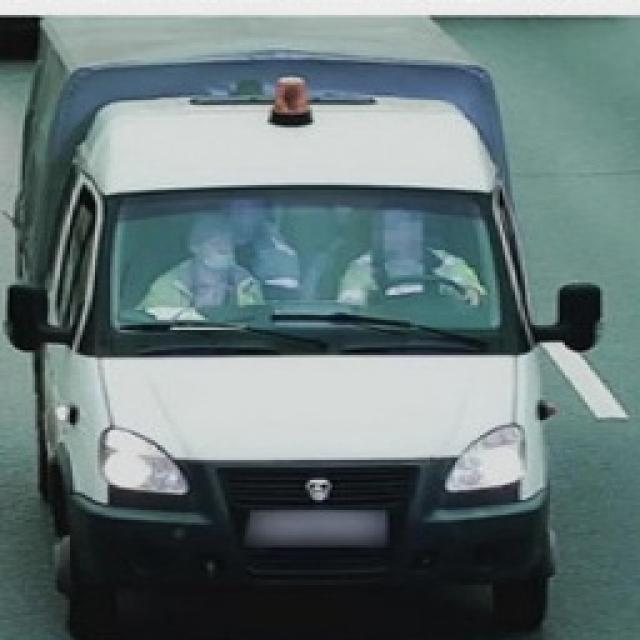windshield: (88, 170, 530, 370)
